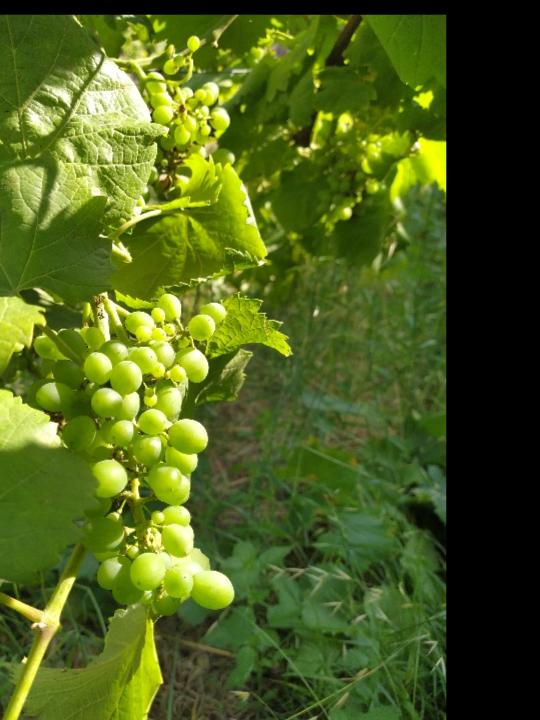grape: (31, 288, 240, 614)
